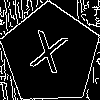X: (25, 30, 69, 83)
